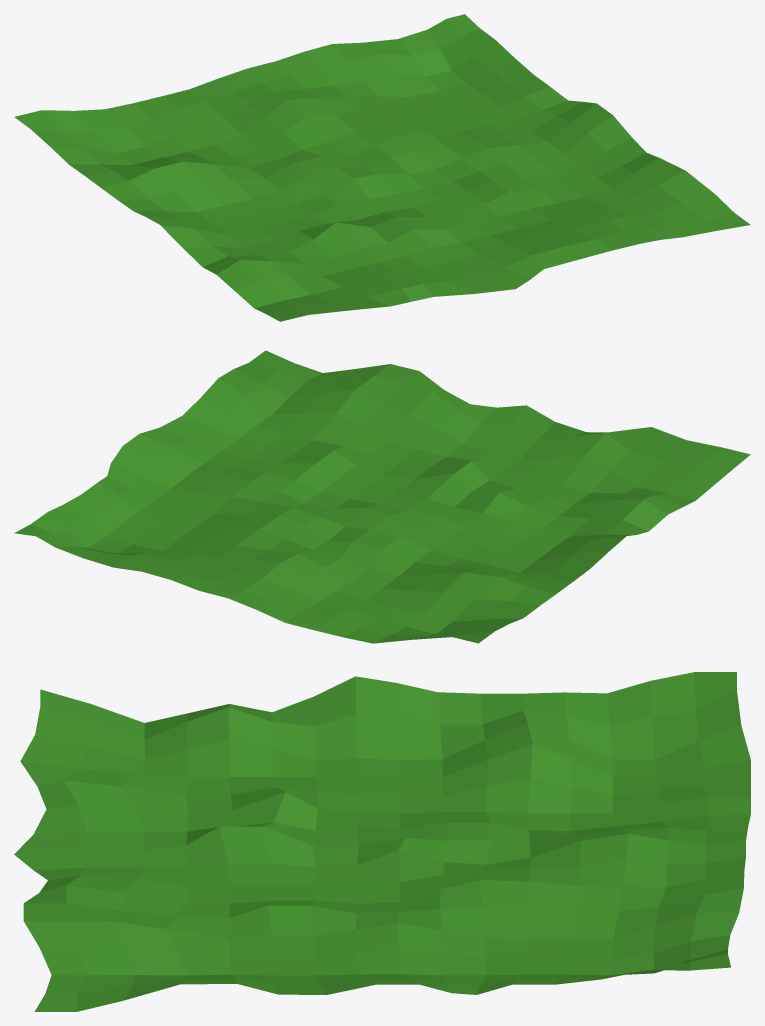
3 renders of one model, top to bottom at view 1: azimuth 30°, elevation 25°; view 2: azimuth 150°, elevation 25°; view 3: azimuth 270°, elevation 25°, orthographic. The views are drawn at different scales.
Visible parts, largest first — view 1: Plane; view 2: Plane; view 3: Plane.
Boxes of the visible parts, x1,y1,x2,y2 form: Plane: (14, 14, 750, 321); Plane: (14, 350, 750, 643); Plane: (14, 672, 750, 1011).
Size of the model in its own units: 3163 by 202 by 3252.
